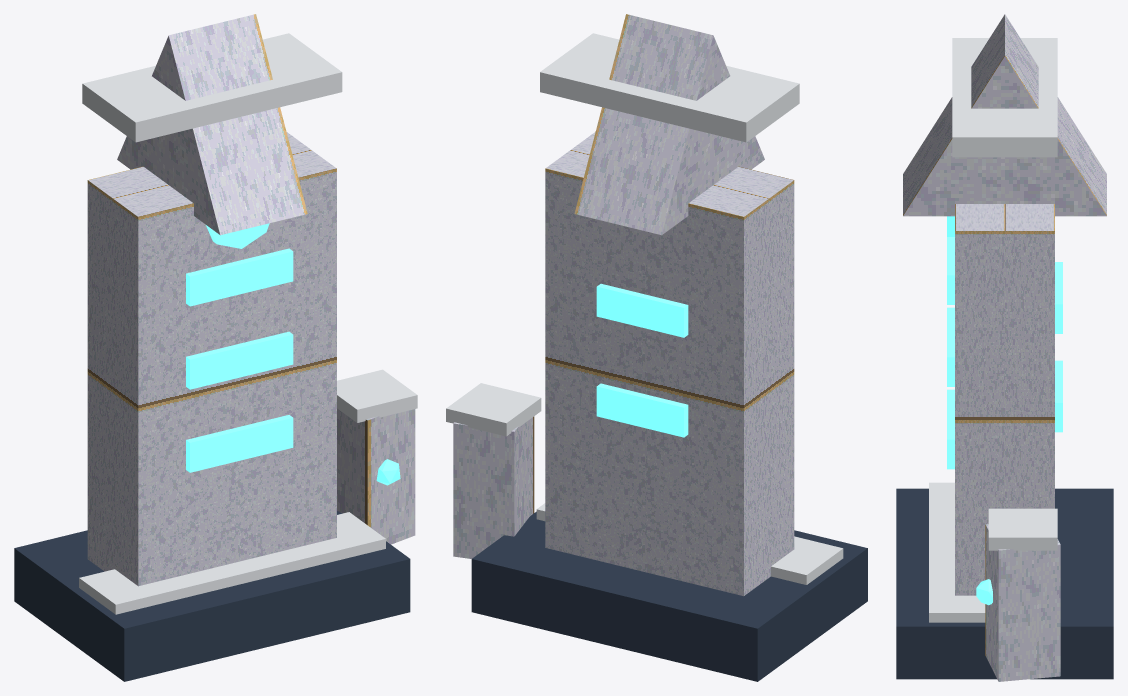
The model's file is estela.glb.
The picture shows the model from 3 angles, left to right: view 1: azimuth 30°, elevation 25°; view 2: azimuth 150°, elevation 25°; view 3: azimuth 270°, elevation 25°; orthographic projection.
Visible parts, largest first — view 1: Cube.001, Cube, Cylinder, Cube.002, Cube.009, Cube.003, Cube.005, Cube.006, Cube.004, Cube.010, Cylinder.001; view 2: Cube.001, Cube, Cylinder, Cube.002, Cube.009, Cube.010, Cube.007, Cube.008, Cube.003; view 3: Cube.001, Cube, Cylinder, Cube.009, Cube.002, Cube.003, Cube.010, Cube.004, Cube.005, Cube.007, Cube.008, Cube.006 (+1 smaller).
Boxes of the visible parts, left/top/right/bottom form: Cube.001: left=87, top=132, right=336, bottom=586; Cube: left=14, top=511, right=410, bottom=681; Cylinder: left=117, top=14, right=307, bottom=235; Cube.002: left=82, top=33, right=342, bottom=142; Cube.009: left=337, top=408, right=415, bottom=544; Cube.003: left=79, top=512, right=385, bottom=614; Cube.005: left=186, top=331, right=293, bottom=389; Cube.006: left=186, top=248, right=293, bottom=306; Cube.004: left=186, top=415, right=293, bottom=472; Cube.010: left=337, top=369, right=417, bottom=422; Cylinder.001: left=206, top=223, right=269, bottom=248; Cube.001: left=545, top=132, right=794, bottom=596; Cube: left=471, top=511, right=867, bottom=681; Cylinder: left=574, top=14, right=764, bottom=235; Cube.002: left=540, top=33, right=799, bottom=142; Cube.009: left=453, top=416, right=534, bottom=558; Cube.010: left=446, top=383, right=541, bottom=436; Cube.007: left=596, top=383, right=688, bottom=437; Cube.008: left=596, top=283, right=688, bottom=337; Cube.003: left=536, top=503, right=843, bottom=584; Cube.001: left=955, top=204, right=1054, bottom=595; Cube: left=896, top=488, right=1113, bottom=679; Cylinder: left=903, top=14, right=1106, bottom=216; Cube.009: left=985, top=524, right=1060, bottom=681; Cube.002: left=952, top=38, right=1057, bottom=157; Cube.003: left=929, top=482, right=985, bottom=622; Cube.010: left=988, top=508, right=1057, bottom=550; Cube.004: left=947, top=389, right=954, bottom=469; Cube.005: left=947, top=307, right=954, bottom=386; Cube.007: left=1055, top=360, right=1062, bottom=432; Cube.008: left=1055, top=262, right=1062, bottom=333; Cube.006: left=947, top=237, right=954, bottom=304.
Size of the model in its own units: 2.16 by 3.5 by 1.2.
Materials: 4 (1 with a texture image).
